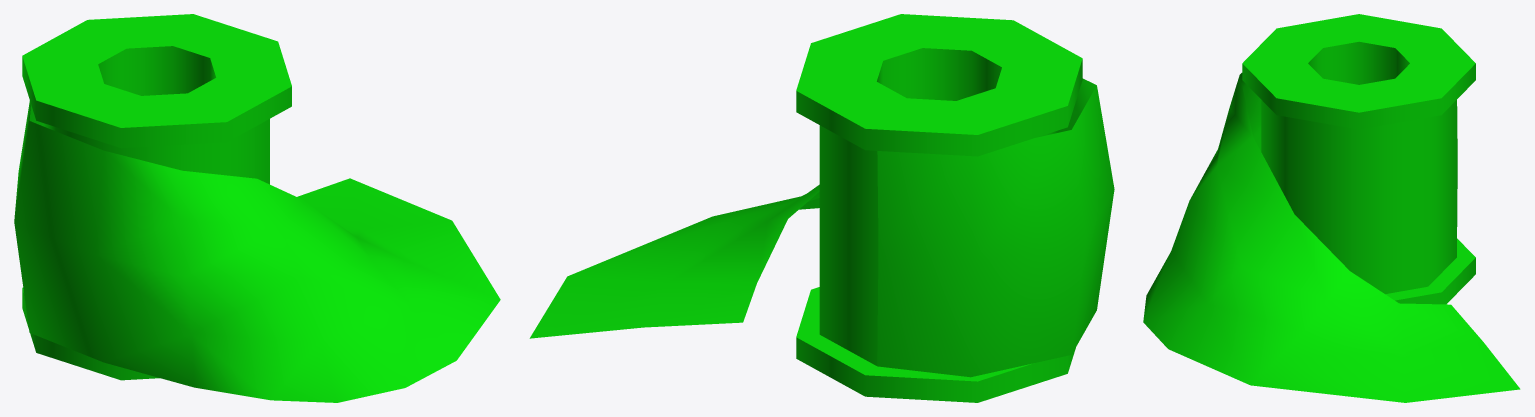
File: bandages.fbx
The picture shows the model from 3 angles, left to right: view 1: azimuth 30°, elevation 25°; view 2: azimuth 150°, elevation 25°; view 3: azimuth 270°, elevation 25°; orthographic projection. The views are drawn at different scales.
Parts seen in each view (by area): view 1: bandages; view 2: bandages; view 3: bandages.
Boxes of the visible parts, x1,y1,x2,y2 form: bandages: (14, 14, 500, 402); bandages: (529, 14, 1114, 402); bandages: (1143, 14, 1520, 402).
Bounding box in the file's own units: 0.4787 × 0.2493 × 0.4041.
